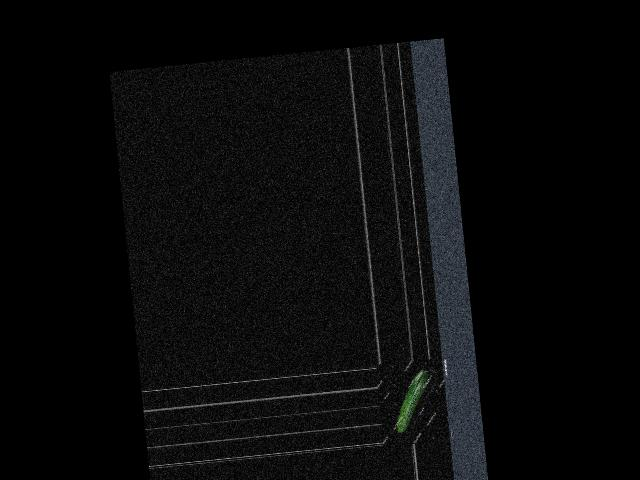cucumber: (391, 369, 435, 434)
